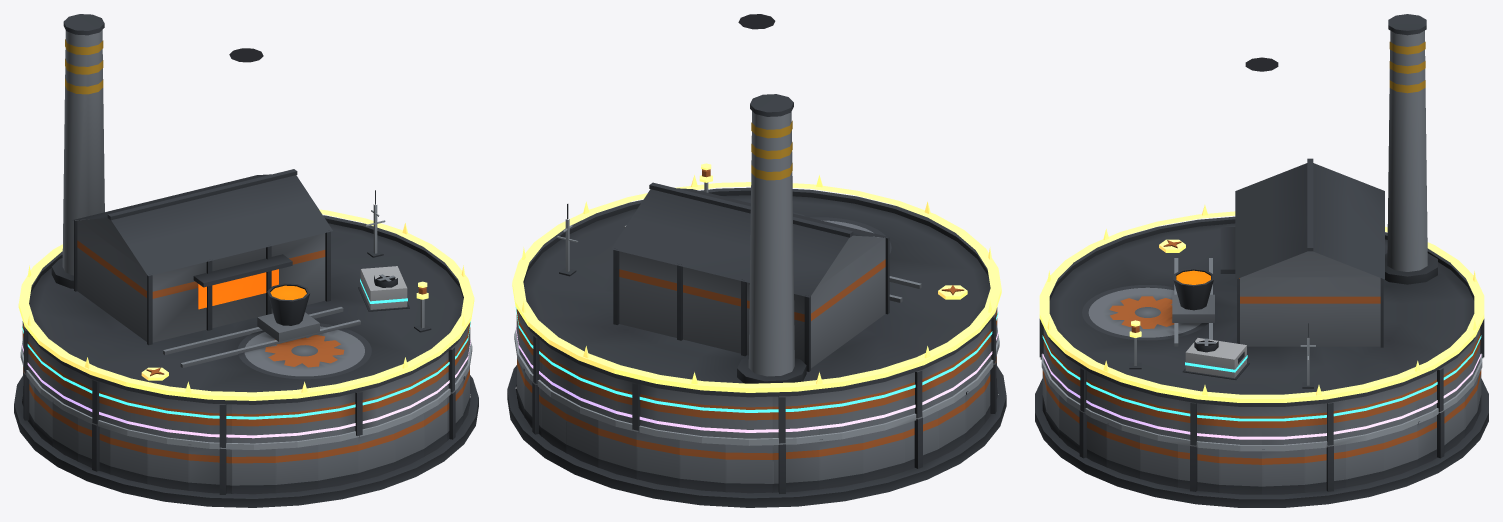
File: steel_mill_s_far.glb
3 renders of one model, left to right at view 1: azimuth 30°, elevation 25°; view 2: azimuth 150°, elevation 25°; view 3: azimuth 270°, elevation 25°, orthographic. The views are drawn at different scales.
Visible parts, largest first — view 1: Roof, Base, L5, L2, L3, L4; view 2: Roof, Base, L5, L2, L4, L3; view 3: Roof, Base, L5, L3, L2, L4.
Boxes of the visible parts, x1,y1,x2,y2 form: Roof: (22,14,470,447); Base: (14,366,478,507); L5: (18,209,474,400); L2: (20,190,472,449); L3: (22,266,470,419); L4: (22,339,470,438); Roof: (516,14,997,443); Base: (507,355,1006,507); L5: (512,163,1001,392); L2: (514,204,999,445); L4: (515,325,998,432); L3: (515,225,998,412); Roof: (1039,14,1484,445); Base: (1035,357,1488,507); L5: (1039,205,1484,402); L3: (1042,335,1481,421); L2: (1041,323,1482,451); L4: (1042,353,1481,439).
Bounding box in the file's own units: 11.74 × 9.92 × 11.74.
